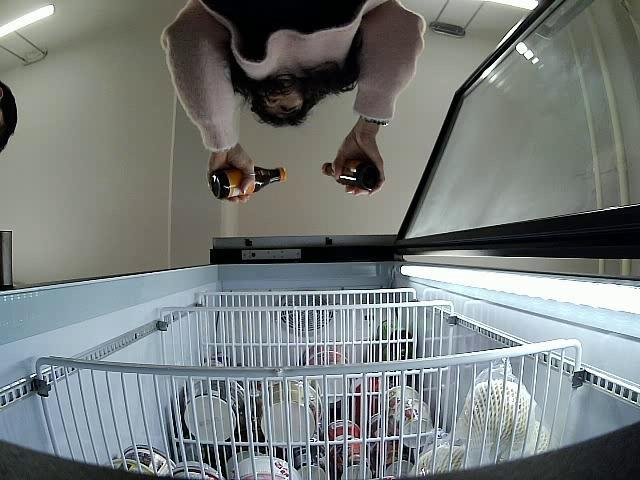17_vita500: (211, 166, 290, 198), (320, 156, 380, 190)
